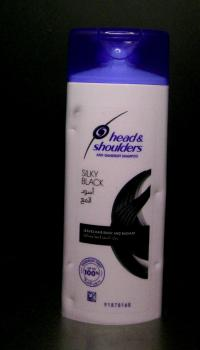dent_unacceptable: (67, 104, 84, 136), (64, 292, 83, 311), (152, 182, 163, 203), (151, 253, 162, 274), (65, 258, 75, 273)
